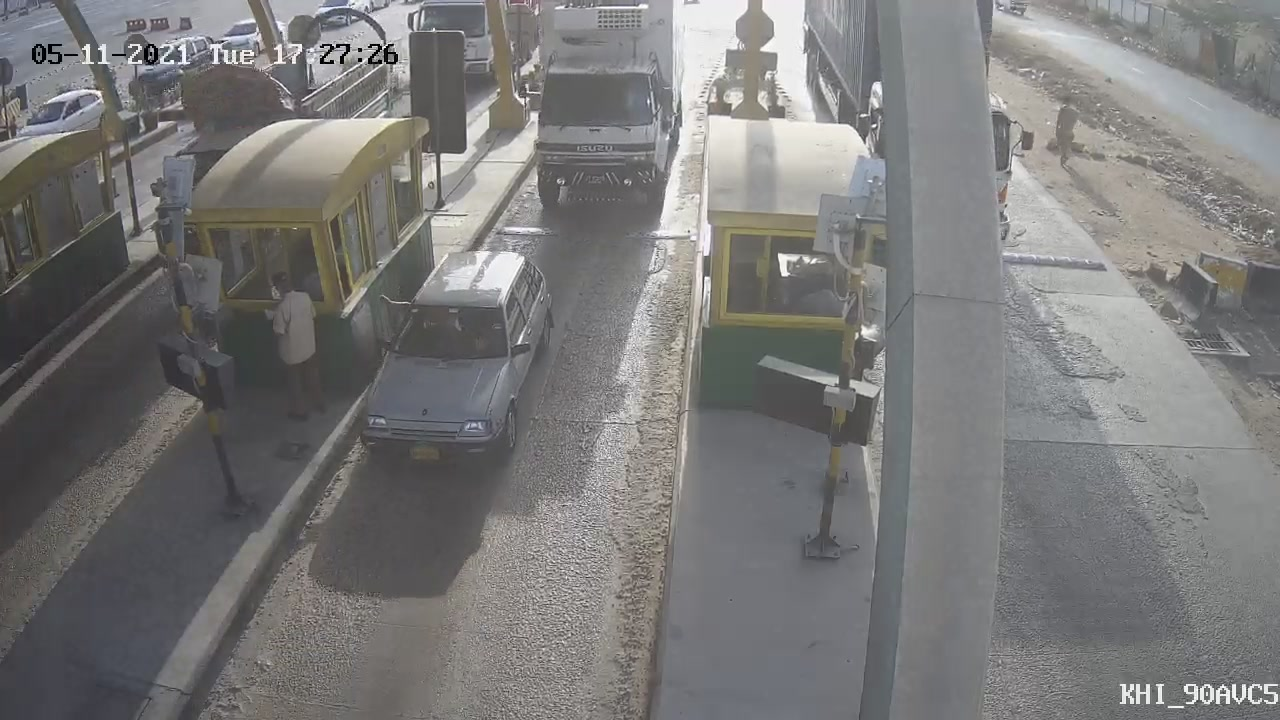F1: (333, 226, 576, 488)
